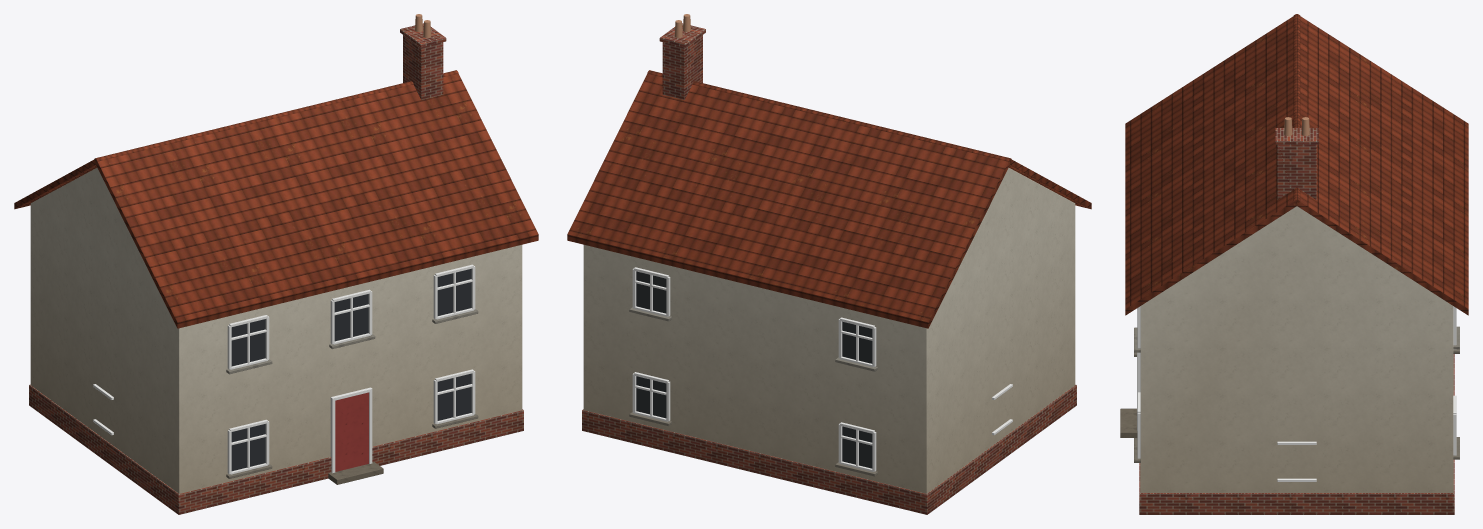
Rendered from prop_house_semi.glb.
3 renders of one model, left to right at view 1: azimuth 30°, elevation 25°; view 2: azimuth 150°, elevation 25°; view 3: azimuth 270°, elevation 25°, orthographic. The views are drawn at different scales.
Parts seen in each view (by area): view 1: Walls, Roof, Plinth, Glass, Frames, Chimney, Door, Sills, Ridge; view 2: Walls, Roof, Plinth, Glass, Frames, Chimney, Ridge, Sills; view 3: Walls, Roof, Plinth, Chimney, Frames, Ridge, Sills.
Boxes of the visible parts, left/top/right/bottom form: Walls: left=30, top=168, right=522, bottom=493; Roof: left=14, top=70, right=538, bottom=328; Plinth: left=29, top=384, right=523, bottom=514; Glass: left=231, top=269, right=471, bottom=471; Frames: left=93, top=264, right=475, bottom=474; Chimney: left=400, top=23, right=446, bottom=99; Door: left=335, top=392, right=368, bottom=471; Sills: left=226, top=309, right=478, bottom=484; Ridge: left=94, top=70, right=458, bottom=165; Walls: left=583, top=168, right=1075, bottom=493; Roof: left=567, top=70, right=1091, bottom=328; Plinth: left=582, top=384, right=1076, bottom=514; Glass: left=636, top=271, right=872, bottom=468; Frames: left=632, top=267, right=1012, bottom=471; Chimney: left=659, top=23, right=705, bottom=99; Ridge: left=647, top=70, right=1011, bottom=165; Sills: left=629, top=307, right=877, bottom=476; Walls: left=1140, top=206, right=1453, bottom=492; Roof: left=1125, top=14, right=1468, bottom=315; Plinth: left=1139, top=354, right=1454, bottom=514; Chimney: left=1275, top=128, right=1318, bottom=199; Frames: left=1137, top=306, right=1456, bottom=481; Ridge: left=1293, top=14, right=1300, bottom=206; Sills: left=1120, top=326, right=1459, bottom=462.
Bounding box in the file's own units: 10.1 × 9.73 × 8.02.
Materials: 8 (5 with a texture image).
